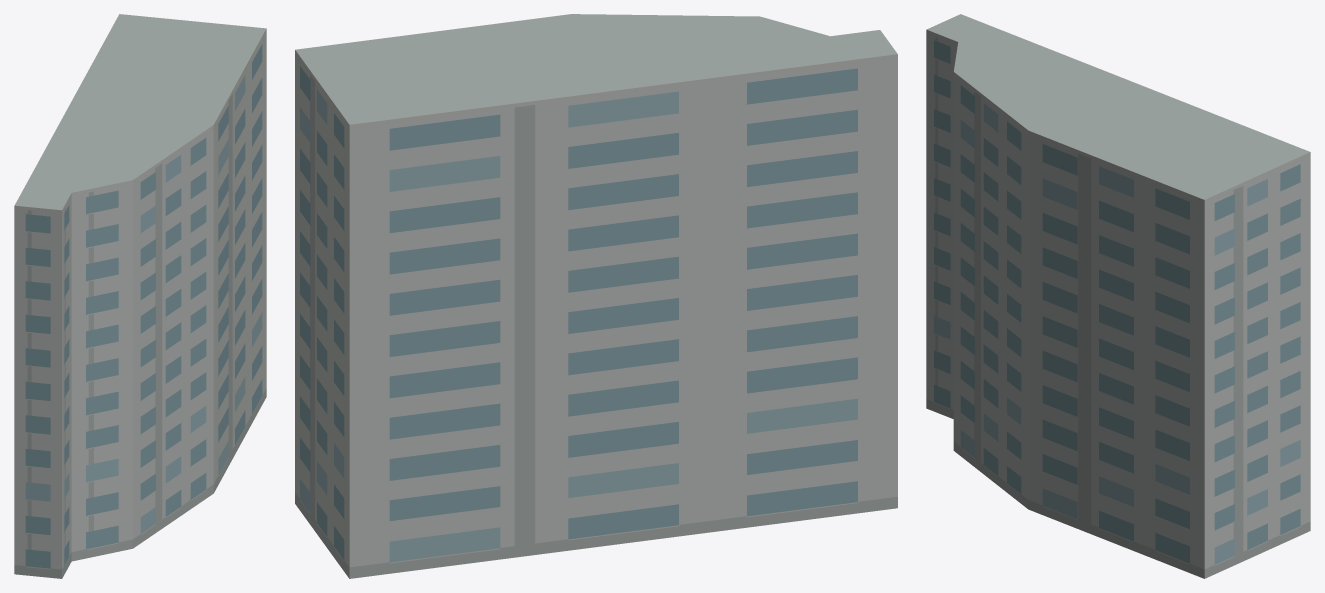
The model's file is residential-2fa59fee-8536-4b6a-b6ba-69c0a65f1e70.glb.
3 renders of one model, left to right at view 1: azimuth 30°, elevation 25°; view 2: azimuth 150°, elevation 25°; view 3: azimuth 270°, elevation 25°, orthographic. The views are drawn at different scales.
Visible parts, largest first — view 1: residential-2fa59fee-8536-4b6a-b6ba-69c0a65f1e70.tmp; view 2: residential-2fa59fee-8536-4b6a-b6ba-69c0a65f1e70.tmp; view 3: residential-2fa59fee-8536-4b6a-b6ba-69c0a65f1e70.tmp.
Boxes of the visible parts, x1,y1,x2,y2 form: residential-2fa59fee-8536-4b6a-b6ba-69c0a65f1e70.tmp: (14, 14, 266, 578); residential-2fa59fee-8536-4b6a-b6ba-69c0a65f1e70.tmp: (295, 14, 897, 578); residential-2fa59fee-8536-4b6a-b6ba-69c0a65f1e70.tmp: (926, 14, 1310, 578).
Size of the model in its own units: 29.47 by 28 by 25.72.
